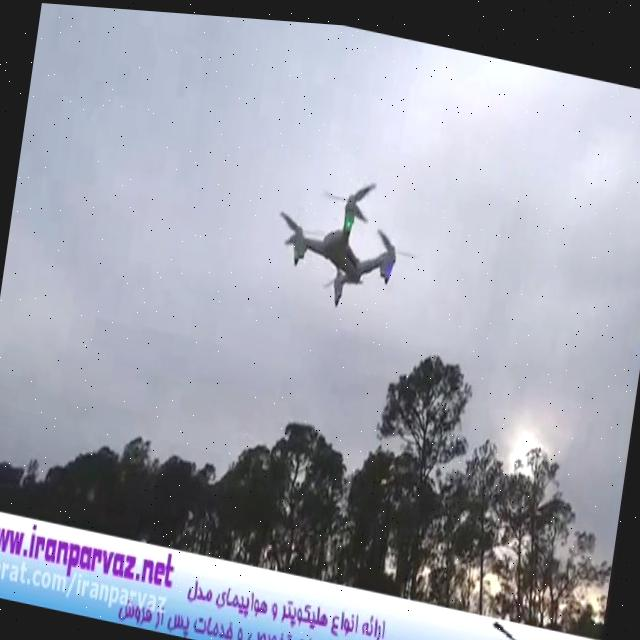drone: (263, 150, 429, 320)
